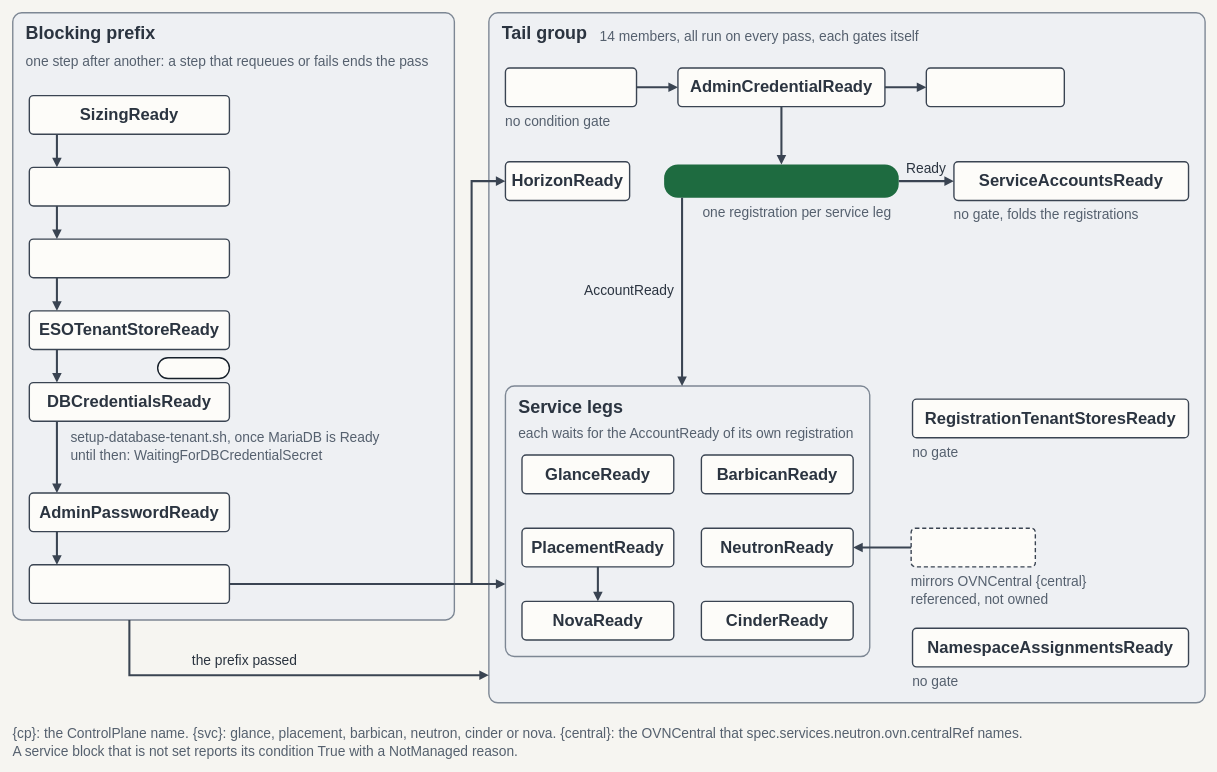
The diagram is 1217 pixels wide and 772 high, and some of its shapes have lost their labels. Each missing label, with the centre of its shape:
"by hand" goes at pixel 193 368.
"CatalogReady" goes at pixel 995 87.
"InfrastructureReady" goes at pixel 129 258.
"KeystoneReady" goes at pixel 129 584.
"KeystoneService {cp}-{svc}" goes at pixel 781 180.
"KORCReady" goes at pixel 570 87.
"NamespacesReady" goes at pixel 129 186.
"OVNReady" goes at pixel 973 547.
